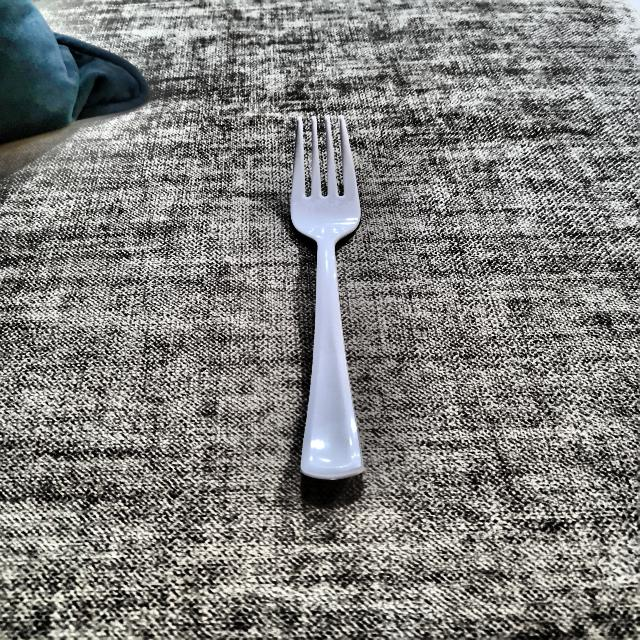plastic utensil: (276, 104, 377, 483)
